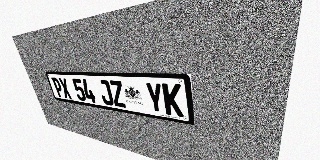4: (80, 79, 96, 103)
5: (72, 78, 87, 101)
J: (97, 80, 114, 106)
K: (162, 83, 184, 117)
P: (51, 77, 65, 98)
X: (58, 78, 72, 99)
Y: (144, 82, 165, 114)
Z: (109, 80, 127, 108)
